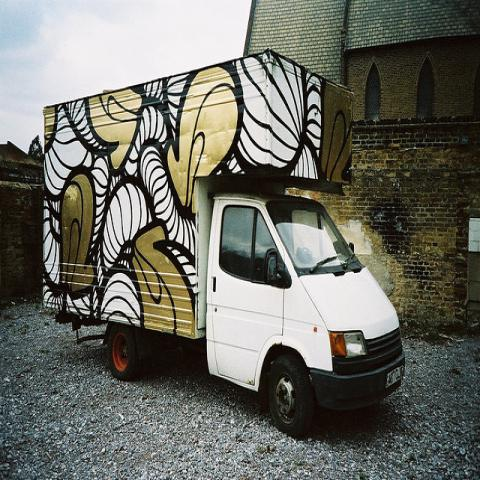truck: (40, 51, 406, 432)
